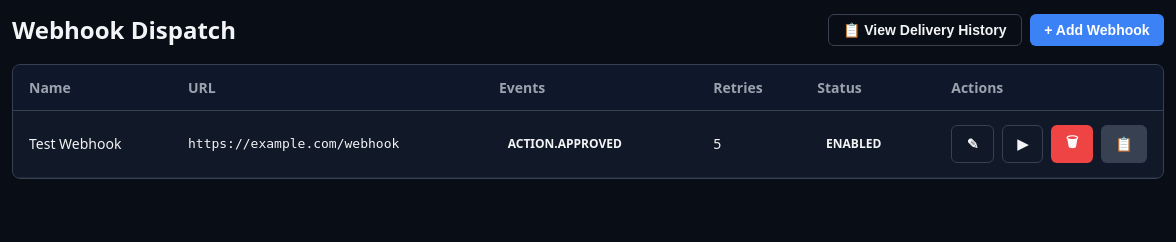
Test case: WebhookManager › switches to delivery history view when View Delivery History is clicked
This screenshot has width=1176, height=242.
Click the button "📋 View Delivery History".
click(925, 30)  # box [828,14,1022,46]
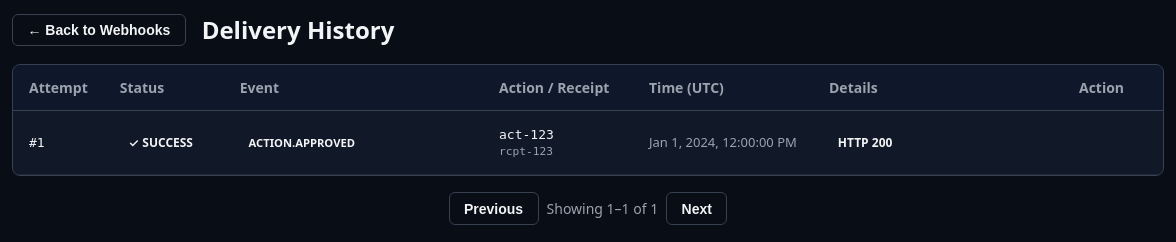
Check: the heading "Delivery History" is shown, box [202,12,394,48]
Check: the text "act-123" is shown, box [499,127,554,142]
